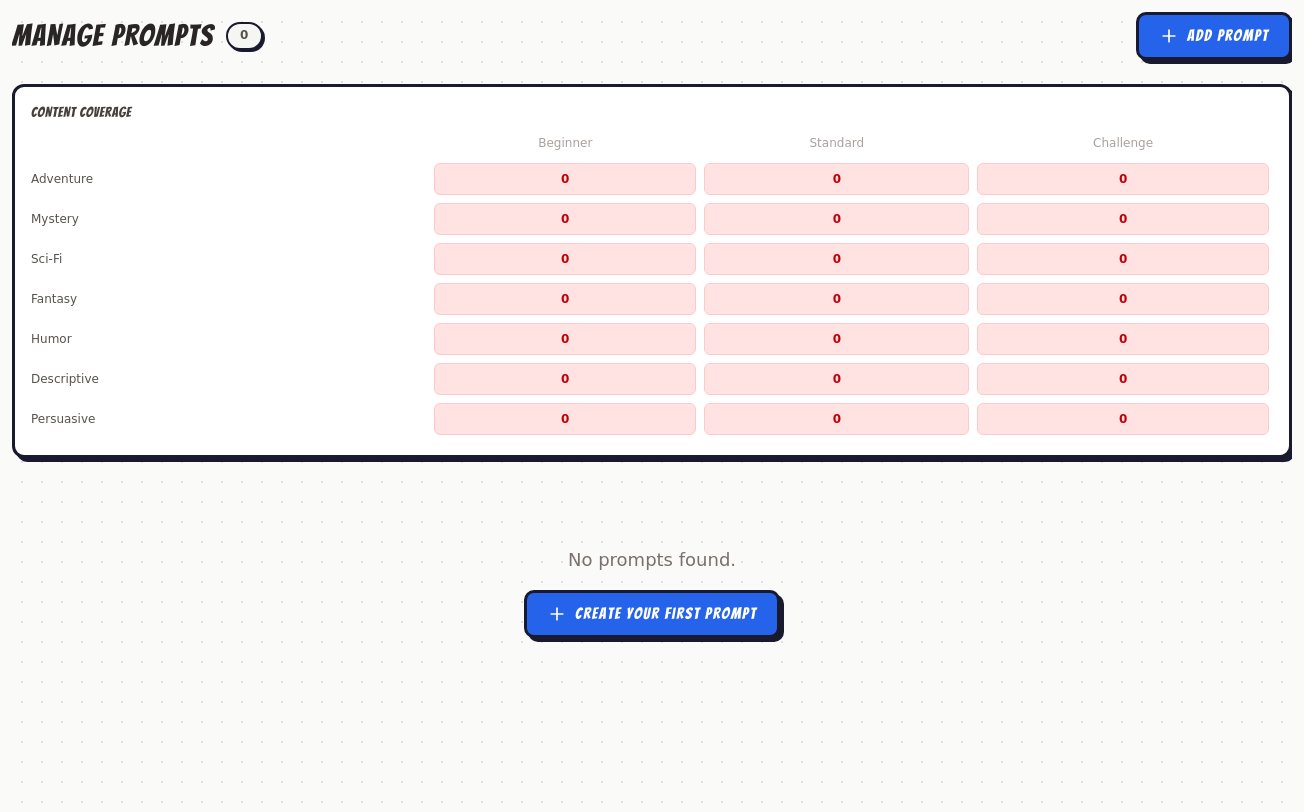
Scenario: AdminPrompts › Create form › submits form successfully and returns to list
Click the button "Create your first prompt": (652,614) [524,590,780,638]
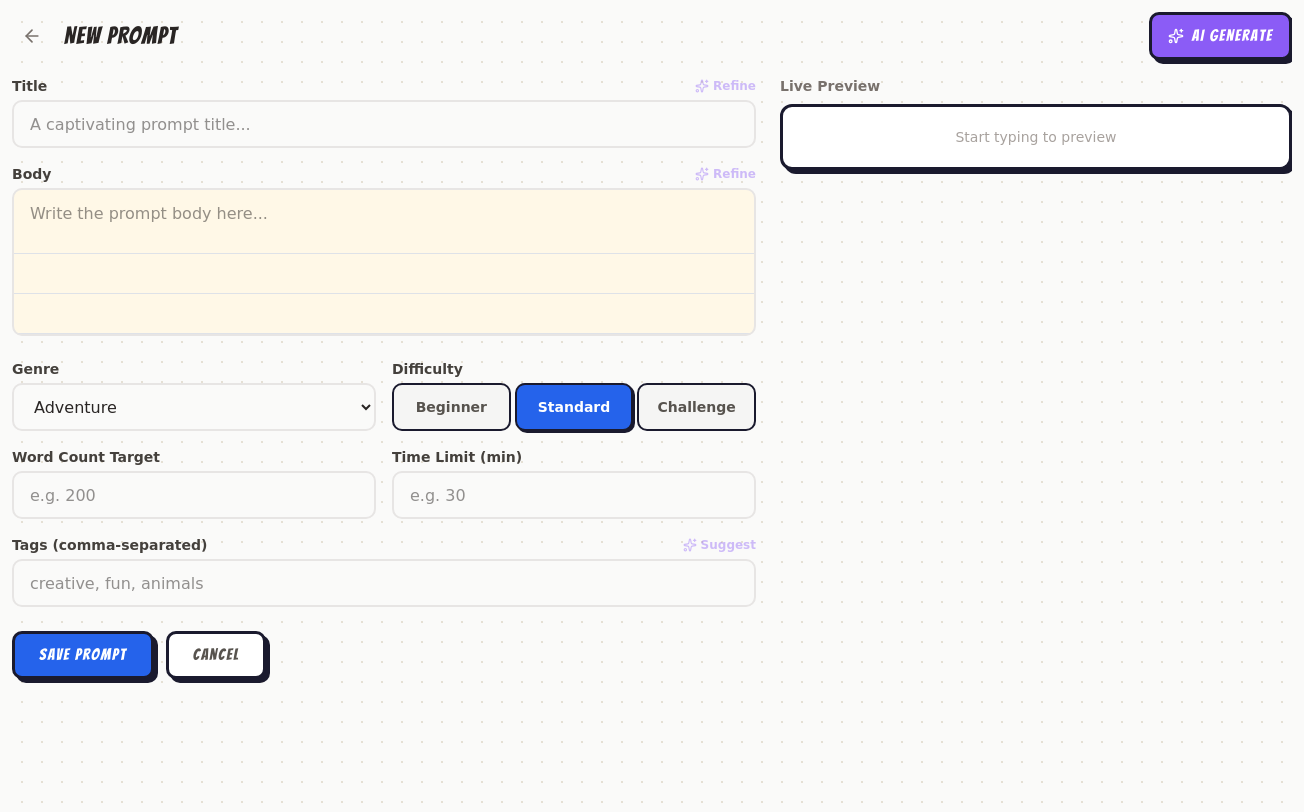
In the field labelled "Title": (384,124) [12,100,756,148], type "New Title"
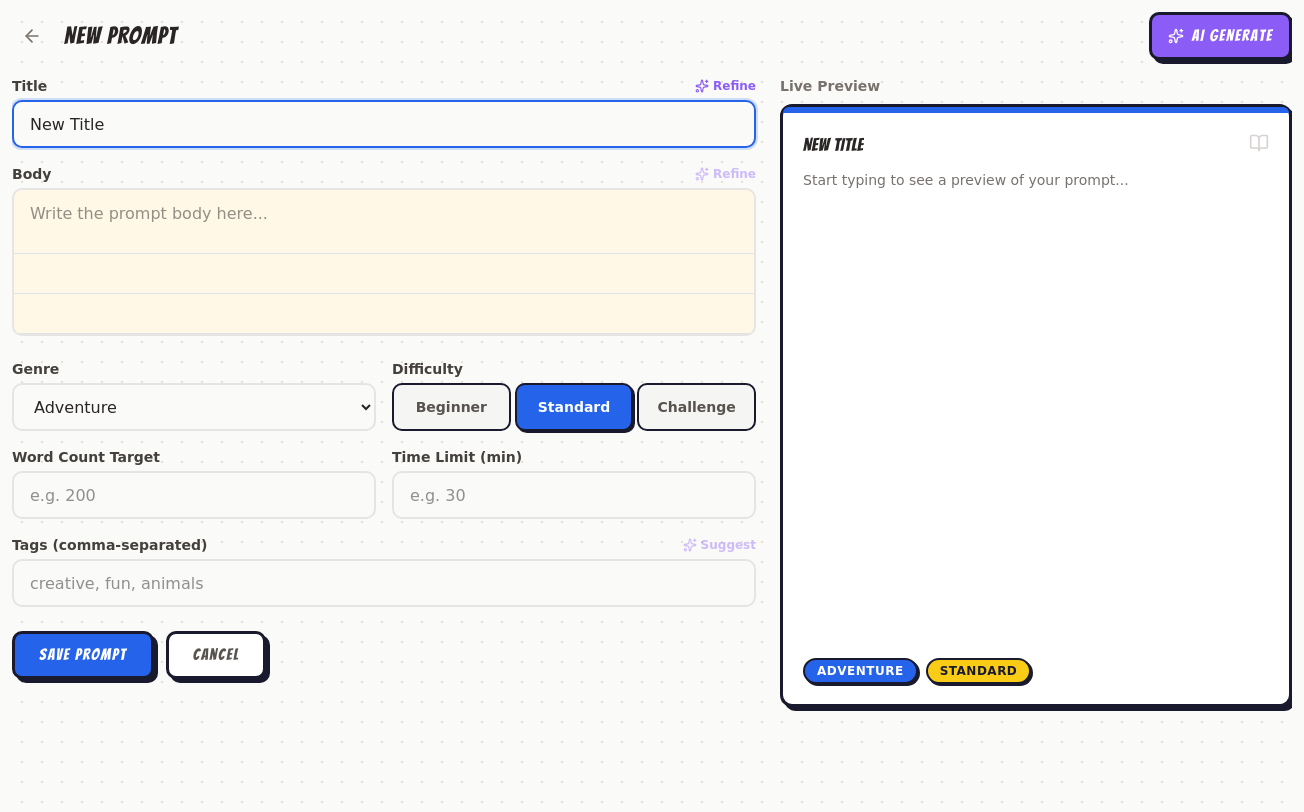
In the text box labelled "Body": (384,262) [12,188,756,336], type "A sufficiently long body for validation to pass here."
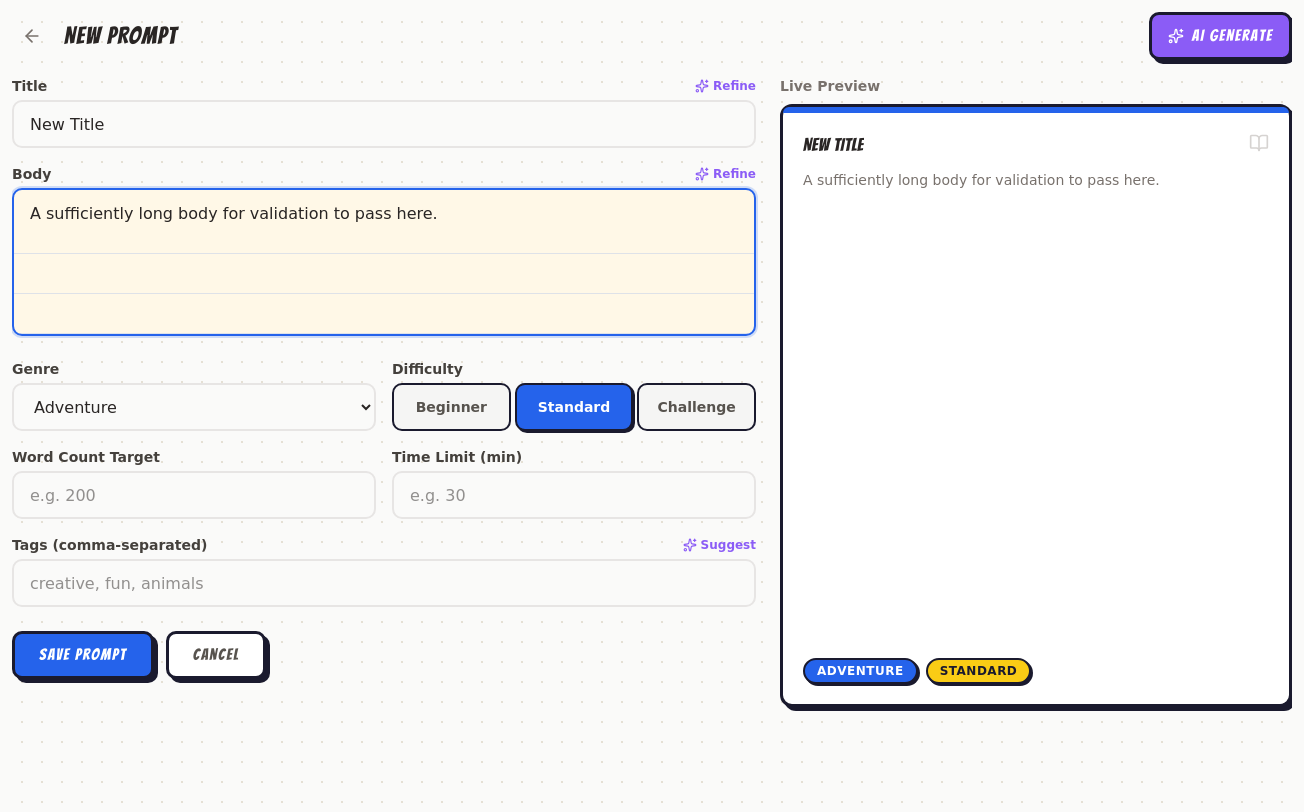
In the field labelled "Tags (comma-separated)": (384,583) [12,559,756,607], type "test"
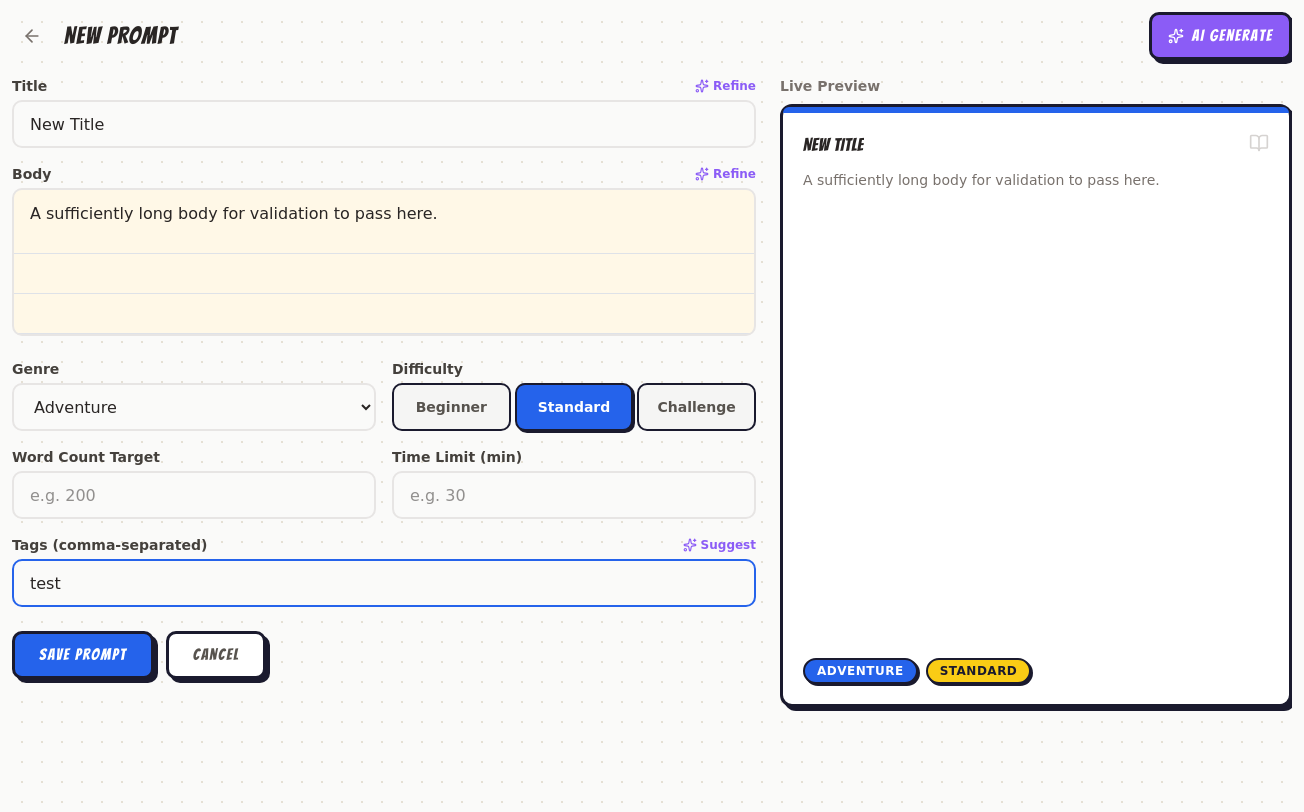
Click the button "Save Prompt": (83,655) [12,631,154,679]
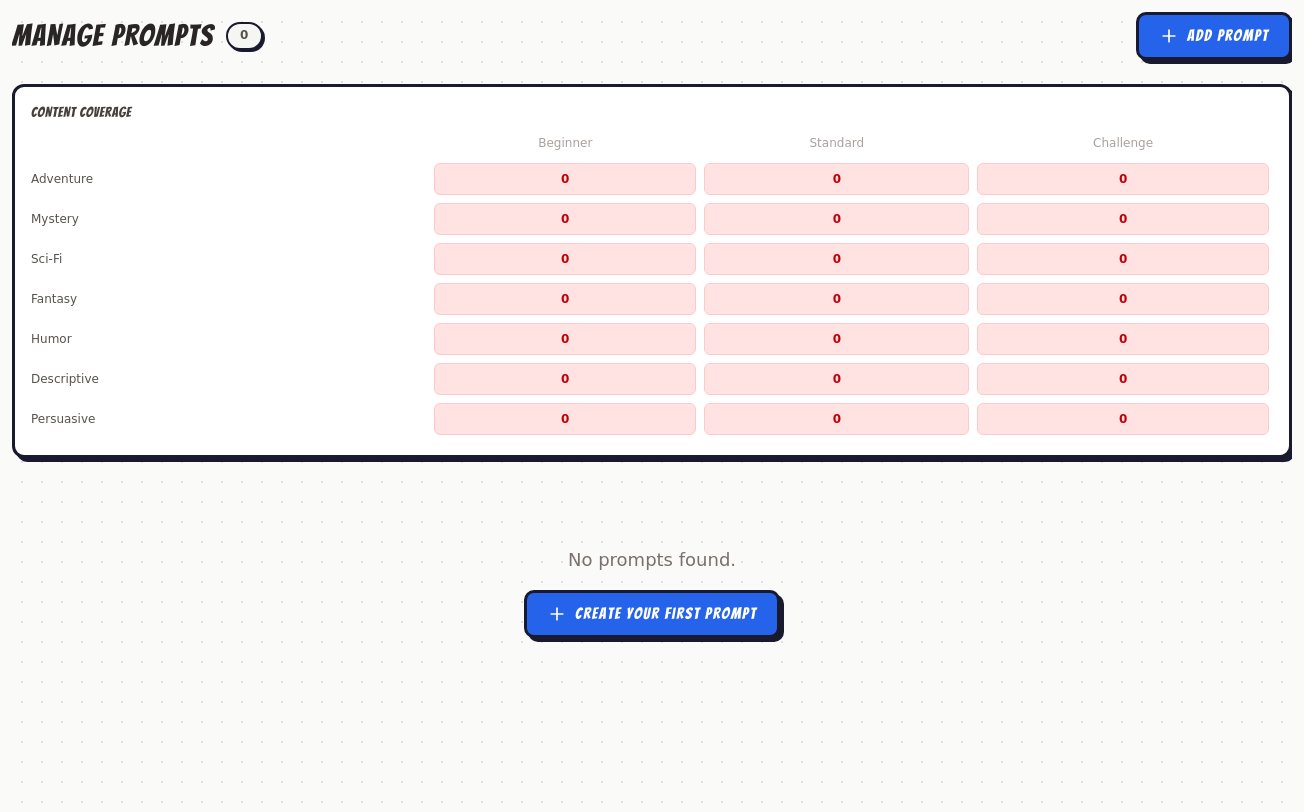
expect the heading "Manage Prompts" is shown: met, box [12,18,214,54]
